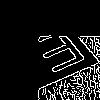E: (25, 26, 97, 83)
